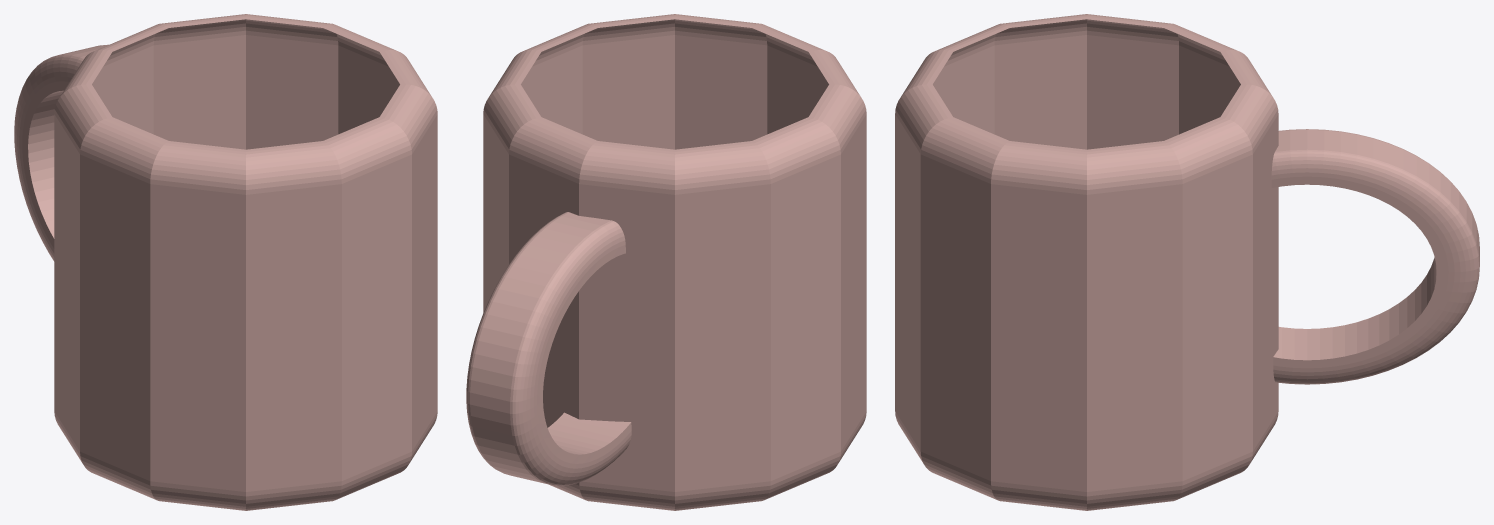
The model's file is asset.glb.
3 renders of one model, left to right at view 1: azimuth 30°, elevation 25°; view 2: azimuth 150°, elevation 25°; view 3: azimuth 270°, elevation 25°, orthographic.
Visible parts, largest first — view 1: Mesh_Mesh_head_geo.001_lambert2SG.001; view 2: Mesh_Mesh_head_geo.001_lambert2SG.001; view 3: Mesh_Mesh_head_geo.001_lambert2SG.001.
Part boxes in pixels (x1,y1,x2,y2): Mesh_Mesh_head_geo.001_lambert2SG.001: (14, 14, 437, 510); Mesh_Mesh_head_geo.001_lambert2SG.001: (466, 14, 866, 510); Mesh_Mesh_head_geo.001_lambert2SG.001: (895, 14, 1479, 510).
Bounding box in the file's own units: 80 × 81.95 × 122.
